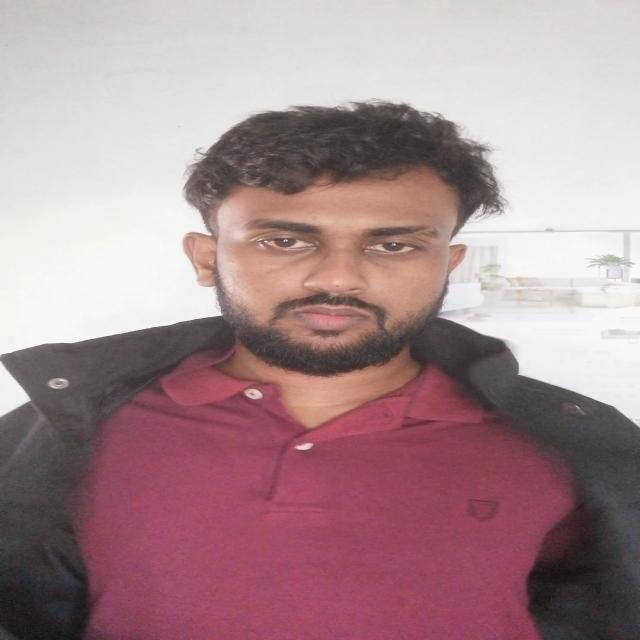Jacket_Wearer: (0, 282, 640, 640)
Person: (0, 99, 640, 633)
